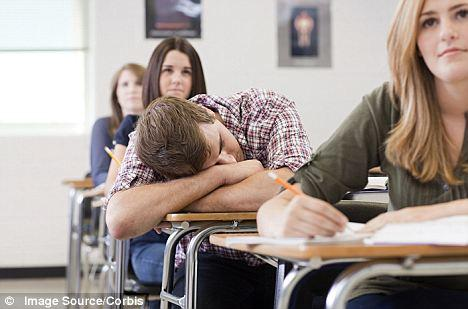sleep: (110, 84, 311, 239)
study: (252, 0, 468, 245)
